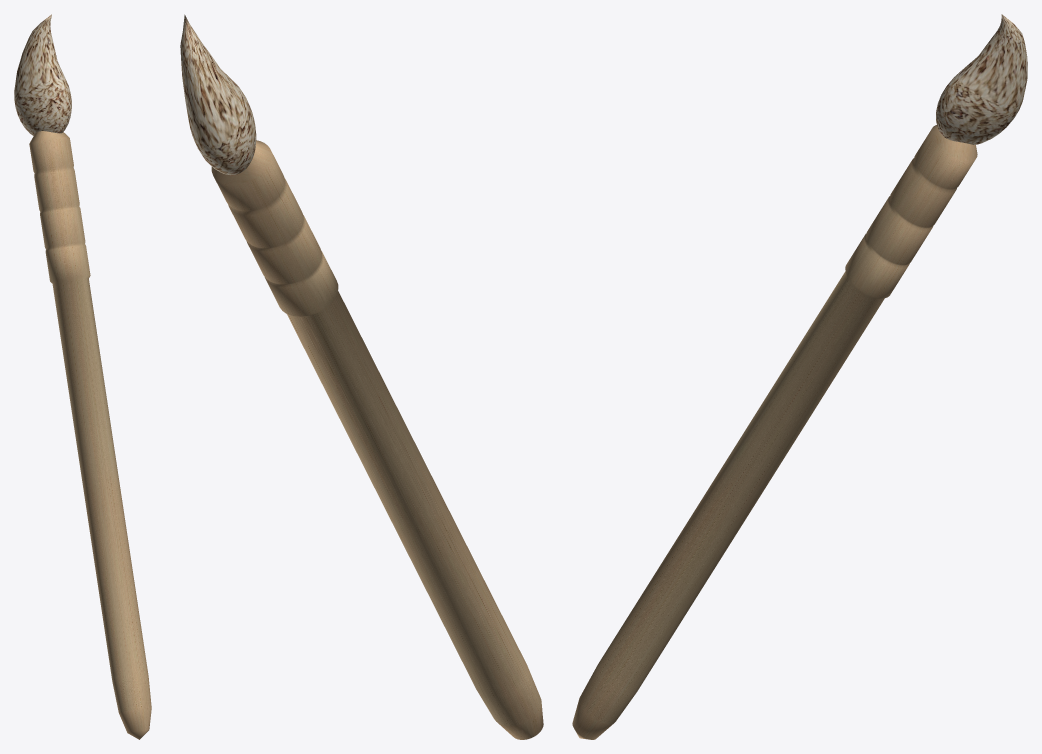
Rendered from pincel.fbx.
3 views of the same model, side by side, from view 1: azimuth 30°, elevation 25°; view 2: azimuth 150°, elevation 25°; view 3: azimuth 270°, elevation 25° (orthographic). The views are drawn at different scales.
Parts seen in each view (by area): view 1: Cylinder.020; view 2: Cylinder.020; view 3: Cylinder.020.
Part boxes in pixels (bbox=[...]): Cylinder.020: bbox=[14, 14, 151, 739]; Cylinder.020: bbox=[180, 14, 543, 739]; Cylinder.020: bbox=[572, 14, 1027, 739].
Bounding box in the file's own units: 26.57 × 169 × 90.11.
